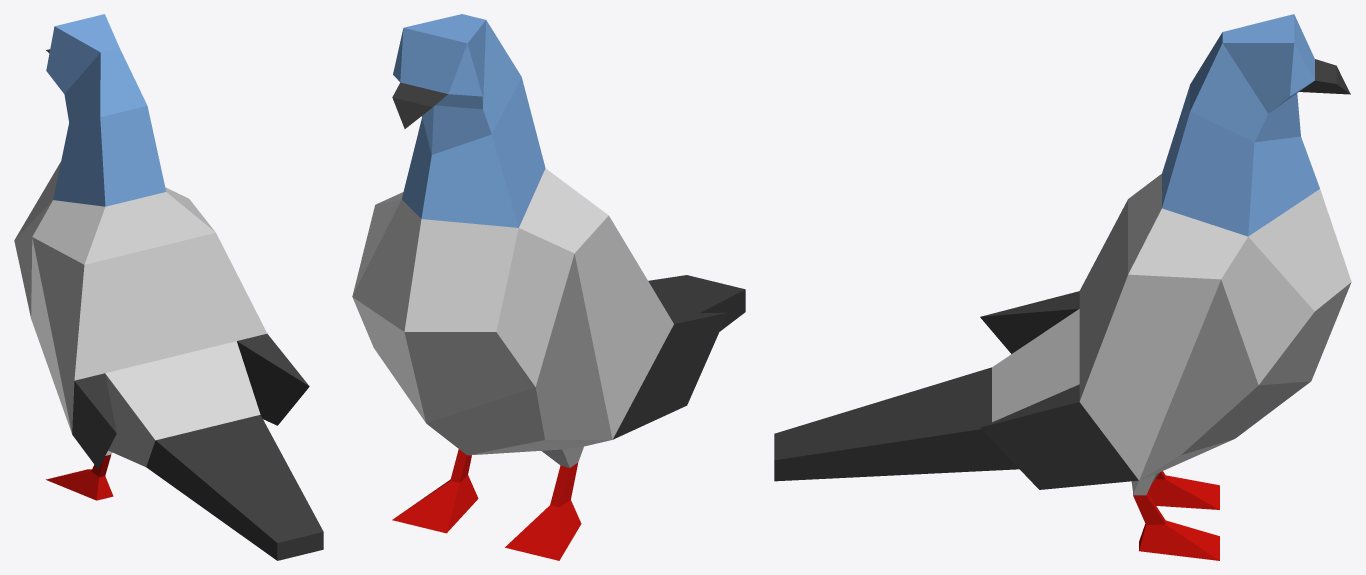
Rendered from pigeon_01.fbx.
3 renders of one model, left to right at view 1: azimuth 30°, elevation 25°; view 2: azimuth 150°, elevation 25°; view 3: azimuth 270°, elevation 25°, orthographic. The views are drawn at different scales.
Visible parts, largest first — view 1: pigeon_01; view 2: pigeon_01; view 3: pigeon_01.
Boxes of the visible parts, x1=… form: pigeon_01: x1=14, y1=14, x2=323, y2=560; pigeon_01: x1=352, y1=14, x2=745, y2=560; pigeon_01: x1=774, y1=14, x2=1351, y2=560.
Size of the model in its own units: 53.21 by 111 by 117.
